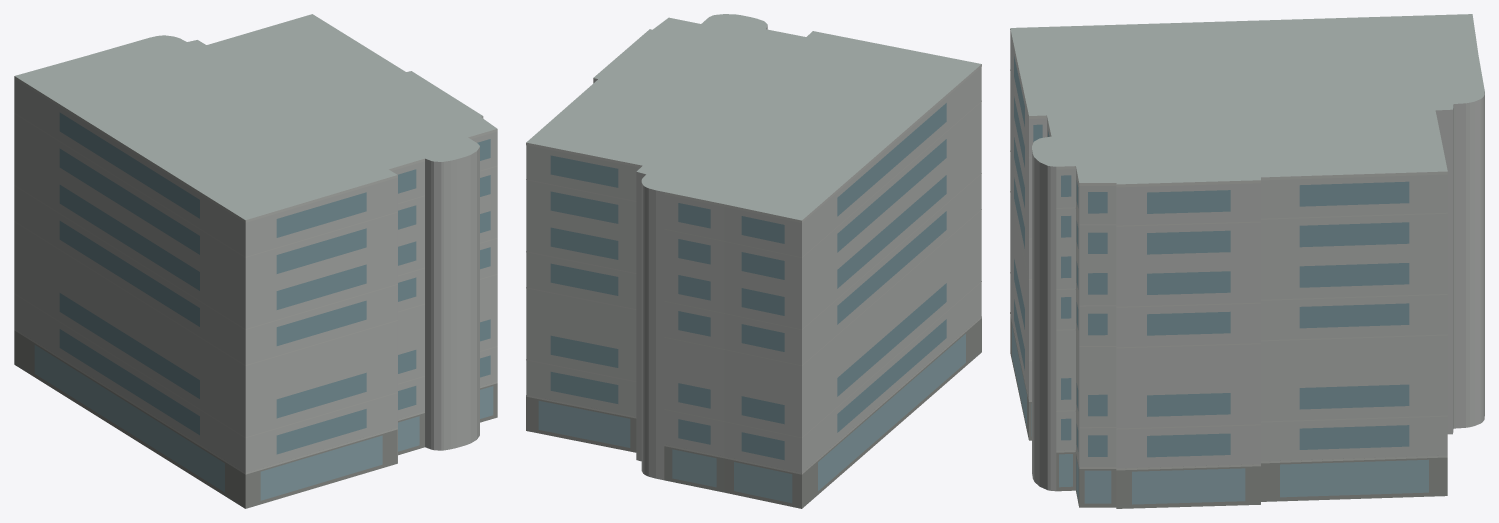
Rendered from survey-upis-33043031.glb.
3 renders of one model, left to right at view 1: azimuth 30°, elevation 25°; view 2: azimuth 150°, elevation 25°; view 3: azimuth 270°, elevation 25°, orthographic. The views are drawn at different scales.
Visible parts, largest first — view 1: survey-upis-33043031.tmp; view 2: survey-upis-33043031.tmp; view 3: survey-upis-33043031.tmp.
Boxes of the visible parts, x1=… form: survey-upis-33043031.tmp: x1=14, y1=14, x2=497, y2=508; survey-upis-33043031.tmp: x1=526, y1=14, x2=981, y2=508; survey-upis-33043031.tmp: x1=1010, y1=14, x2=1484, y2=508.
Bounding box in the file's own units: 29.64 × 26.3 × 34.88.
